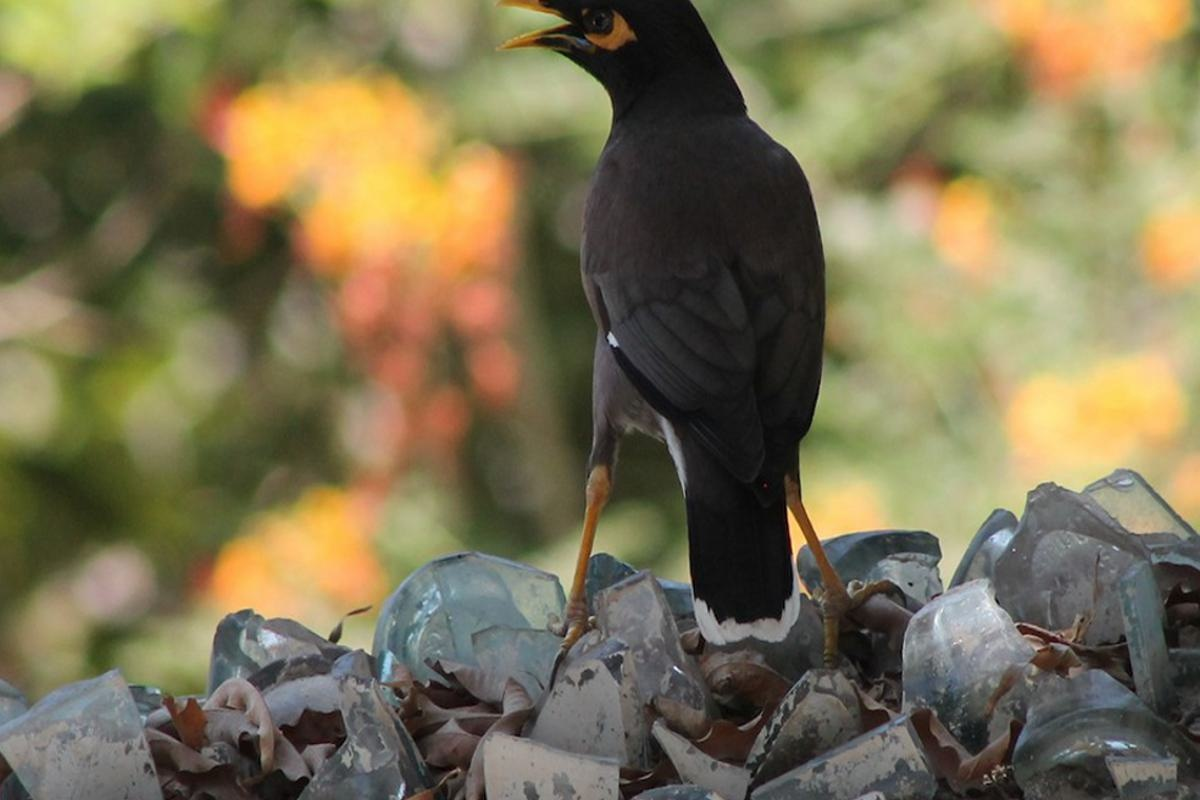myna: (475, 4, 858, 616)
